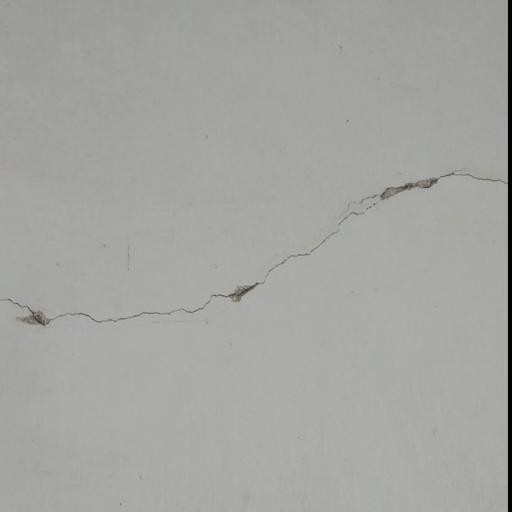minor_crack: (0, 156, 512, 334)
